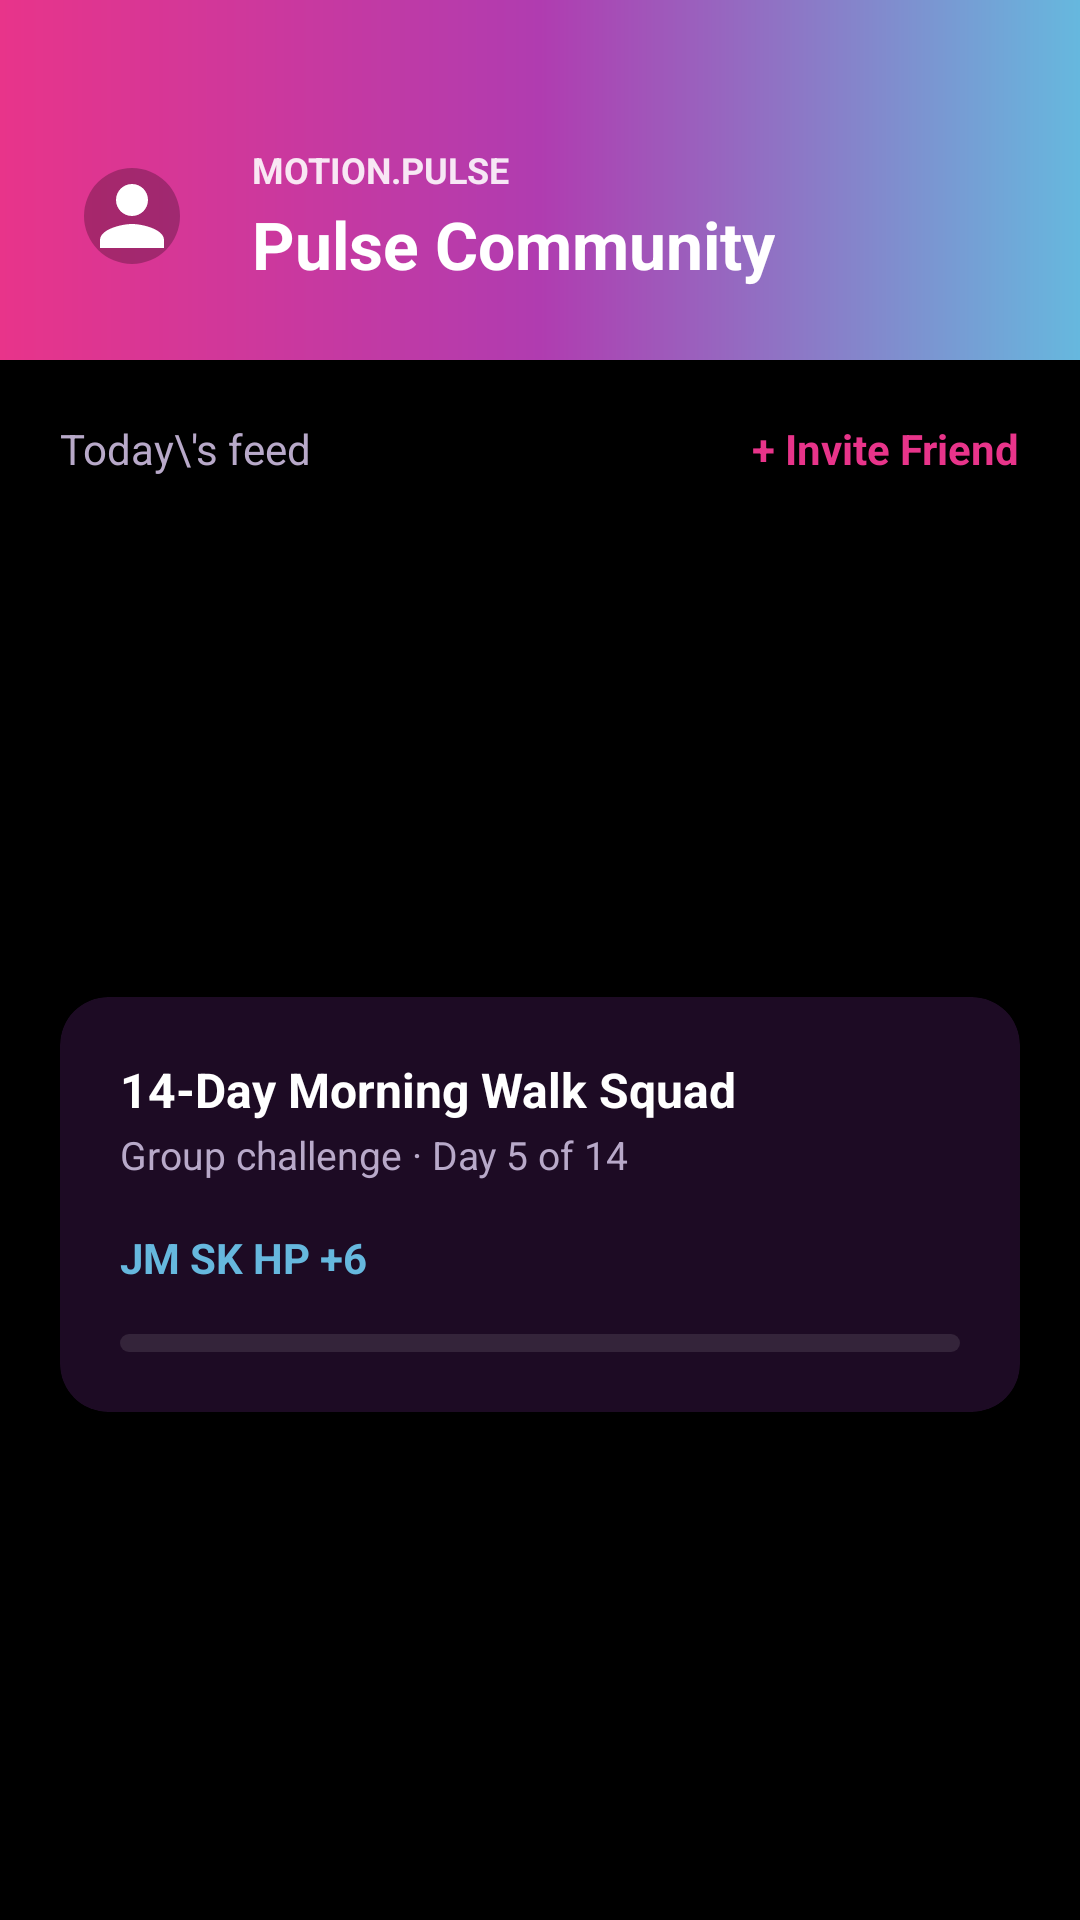

Named icons in this screenshot (1080 x 1920) and their bounding boxes, {"x1": x1, "y1": y1, "x2": x2, "y2": y2}:
profile: {"x1": 84, "y1": 168, "x2": 180, "y2": 264}
